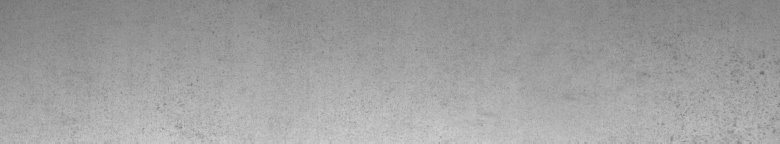ib: (642, 52, 776, 136)
